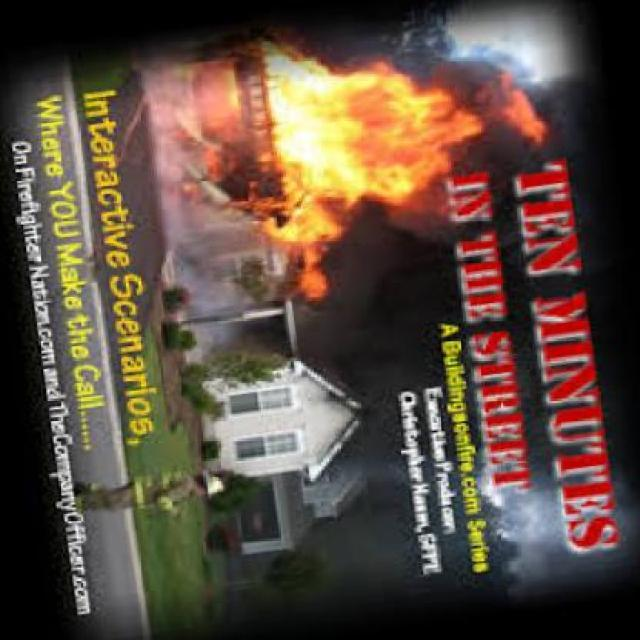Fire: (206, 30, 536, 296)
Smoke: (314, 261, 516, 634), (515, 53, 640, 640)
